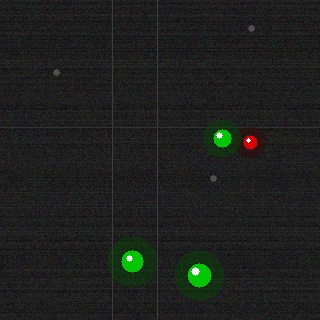green_normal: (185, 261, 213, 289), (119, 248, 145, 274), (211, 127, 233, 149)
red_fault: (241, 133, 259, 151)
